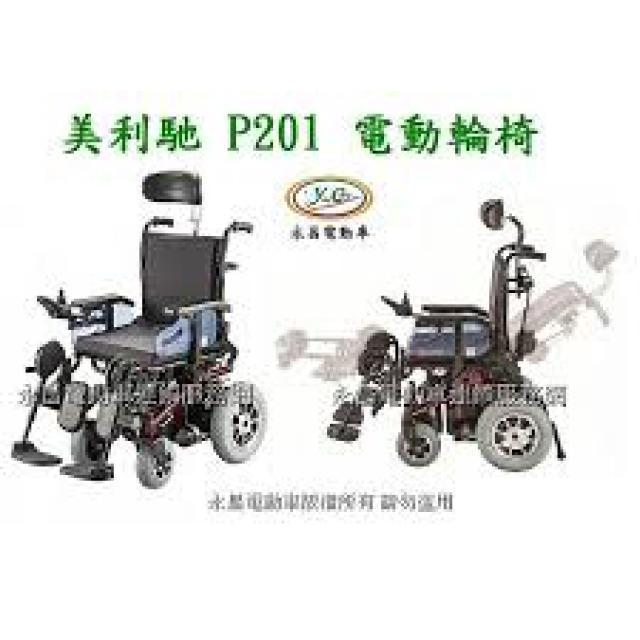wheelchair: (313, 188, 603, 490), (3, 156, 262, 486)
